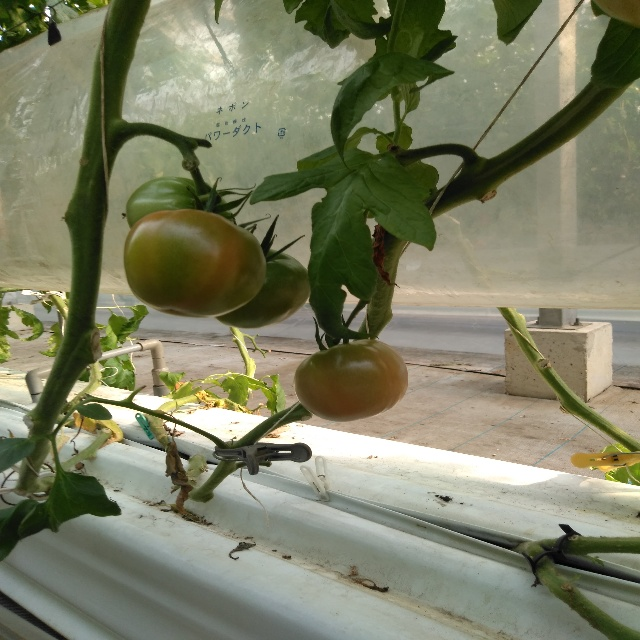b_green: (214, 247, 311, 330), (125, 176, 235, 229)
b_half_ripened: (123, 209, 266, 318), (294, 339, 409, 422)
